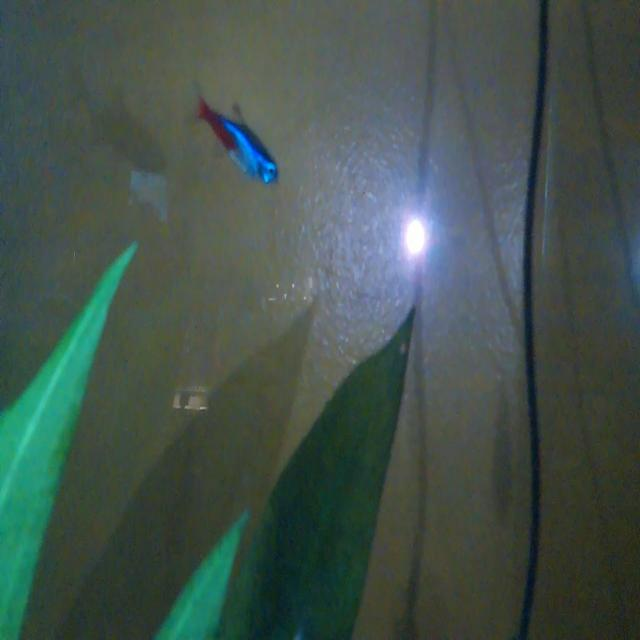fish: (182, 73, 290, 194)
